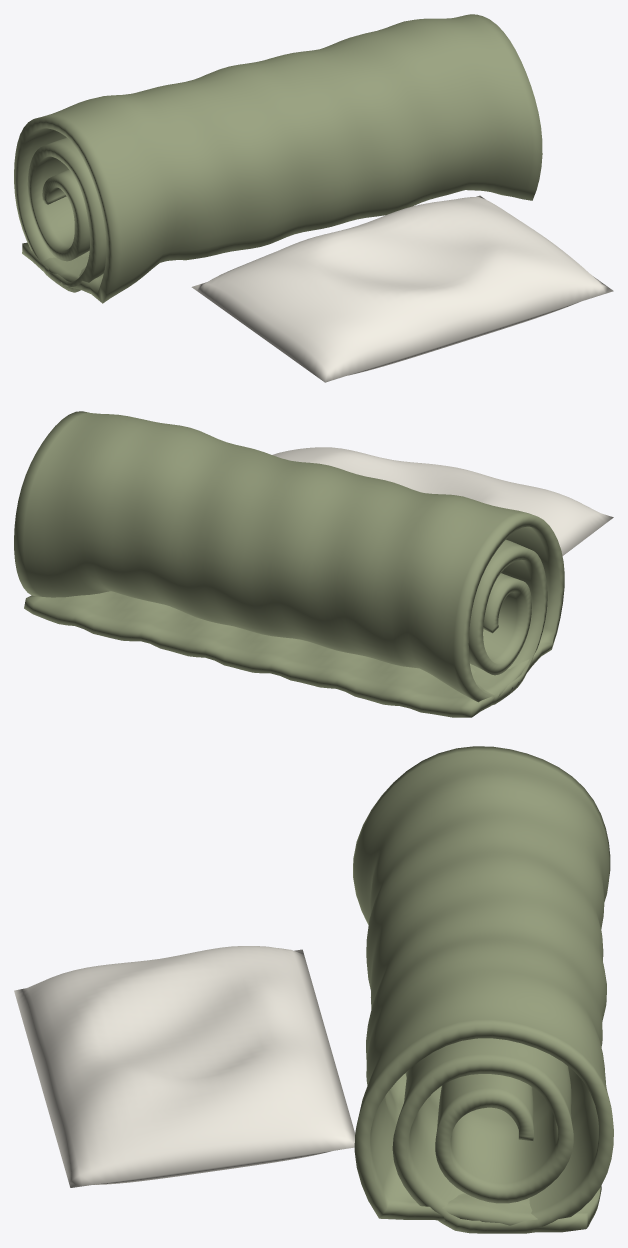
File: dorm_bedding.glb
The picture shows the model from 3 angles, top to bottom: view 1: azimuth 30°, elevation 25°; view 2: azimuth 150°, elevation 25°; view 3: azimuth 270°, elevation 25°; orthographic projection. The views are drawn at different scales.
Visible parts, largest first — view 1: bedroll, pillow; view 2: bedroll, pillow; view 3: bedroll, pillow.
Part boxes in pixels (x1=…): bedroll: x1=14, y1=14, x2=542, y2=303; pillow: x1=191, y1=195, x2=613, y2=382; bedroll: x1=14, y1=411, x2=564, y2=717; pillow: x1=272, y1=447, x2=613, y2=555; bedroll: x1=353, y1=746, x2=613, y2=1233; pillow: x1=14, y1=946, x2=355, y2=1187.
Bounding box in the file's own units: 0.8061 × 0.2998 × 0.7391.
